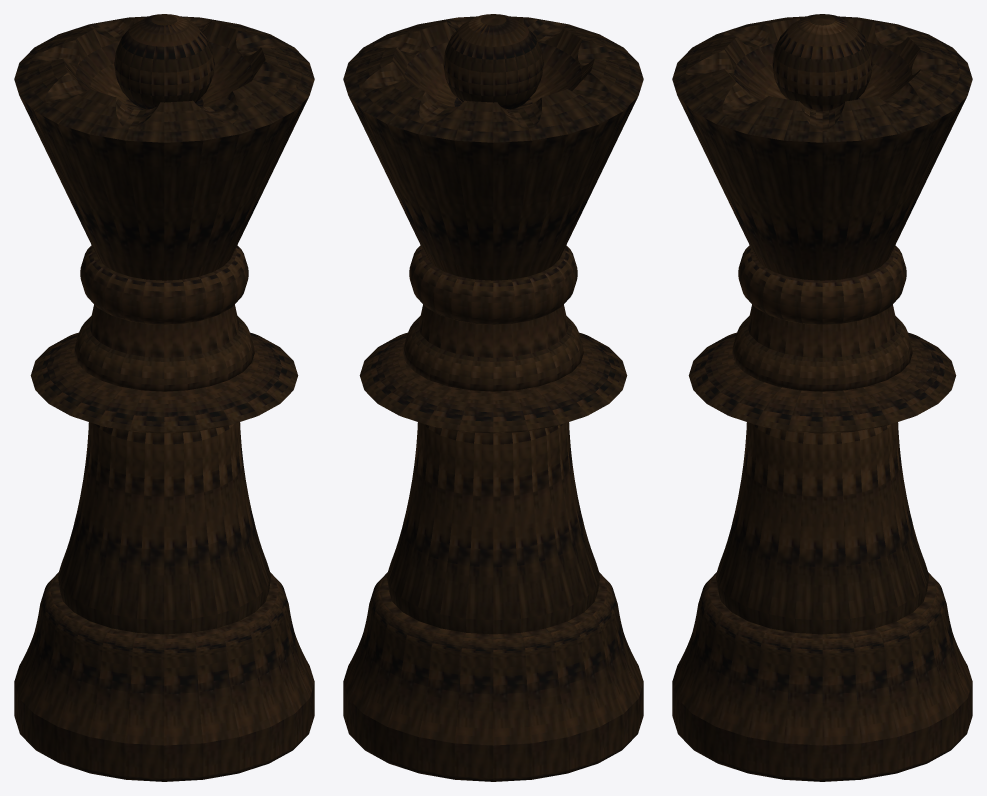
The model's file is Queen_b.dae.
3 views of the same model, side by side, from view 1: azimuth 30°, elevation 25°; view 2: azimuth 150°, elevation 25°; view 3: azimuth 270°, elevation 25° (orthographic).
Parts seen in each view (by area): view 1: SketchUp; view 2: SketchUp; view 3: SketchUp.
Part boxes in pixels (bbox=[...]): SketchUp: bbox=[14, 14, 314, 781]; SketchUp: bbox=[343, 14, 643, 781]; SketchUp: bbox=[672, 14, 972, 781].
Size of the model in its own units: 23.62 by 23.62 by 60.78.
1 material, 1 textured.
